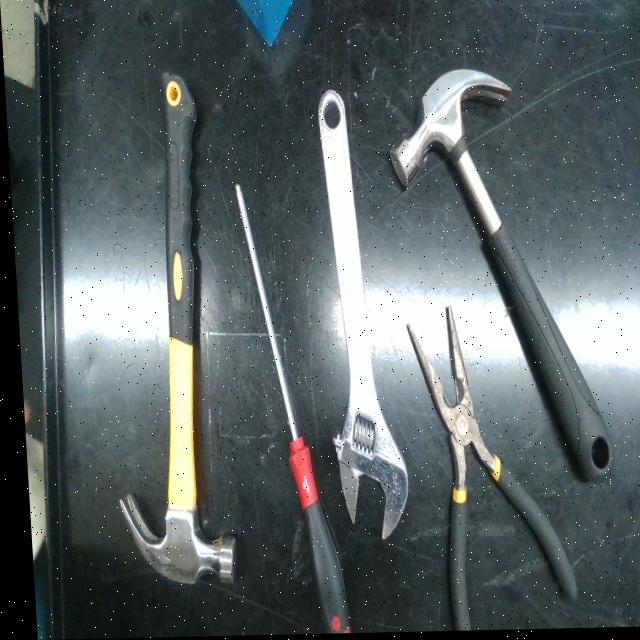Screwdriver: (233, 185, 341, 635)
